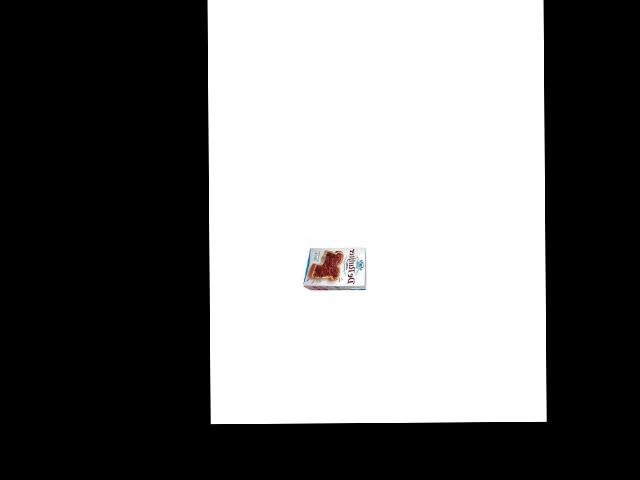chocolate: (304, 241, 370, 296)
